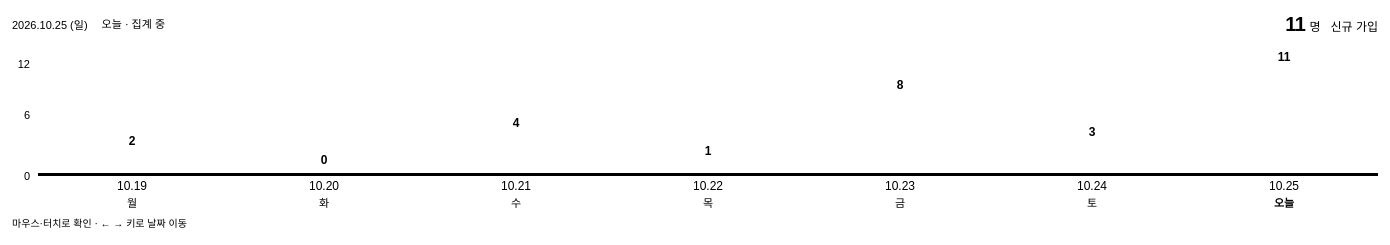
it: inspection shows a tooltip for zero days and dismisses it on Escape or pointer exit
Hover over the button "0 10.20 화".
mouse_move(324, 126)  # box [230,40,418,212]
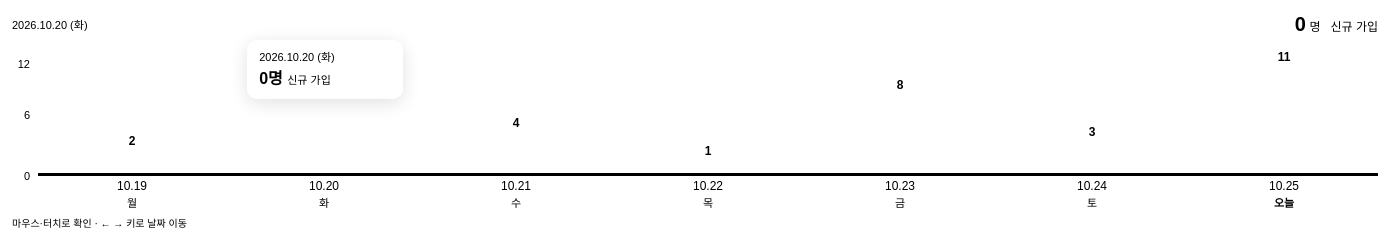
Result: the tooltip shows "2026.10.20" at [259,51,314,63]
Result: the tooltip shows "0명" at [247,40,403,99]
Press Escape in the button "10.20 화", box [230,40,418,212]
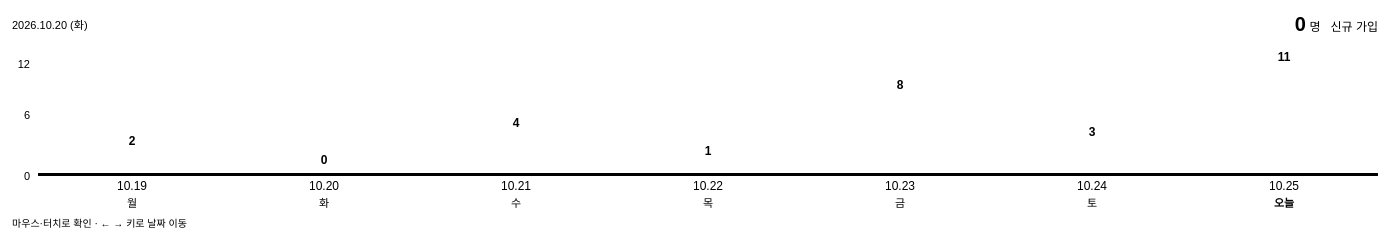
Result: the tooltip "2026.10.20 (화) 0명 신규 가입" is gone
Click the button "0 10.20 화".
click(324, 126)  # box [230,40,418,212]
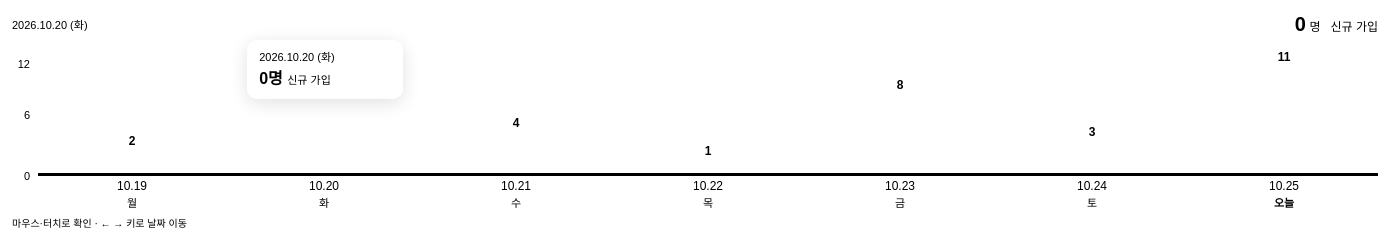
Result: the tooltip shows "0명" at [247,40,403,99]
Move the pointer off the element named "날짜별 가입자 선택"
Result: the tooltip shows "0명" at [247,40,403,99]
Move the pointer off the element named "날짜별 가입자 선택"
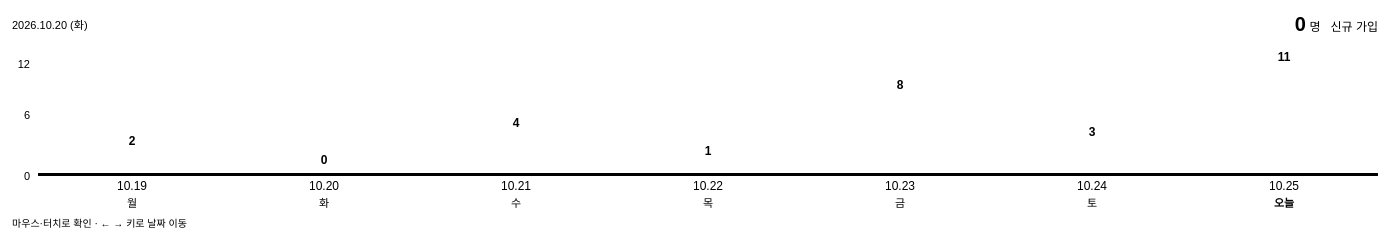
Result: the tooltip "2026.10.20 (화) 0명 신규 가입" is gone
